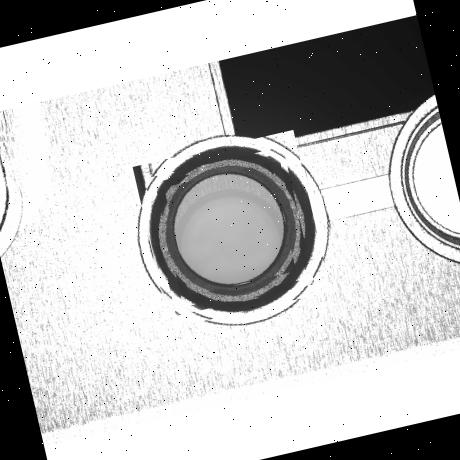Hole: (131, 130, 330, 328)
Hole2: (144, 146, 314, 316)
Hole3: (153, 153, 307, 307)
Hole4: (164, 162, 296, 296)
